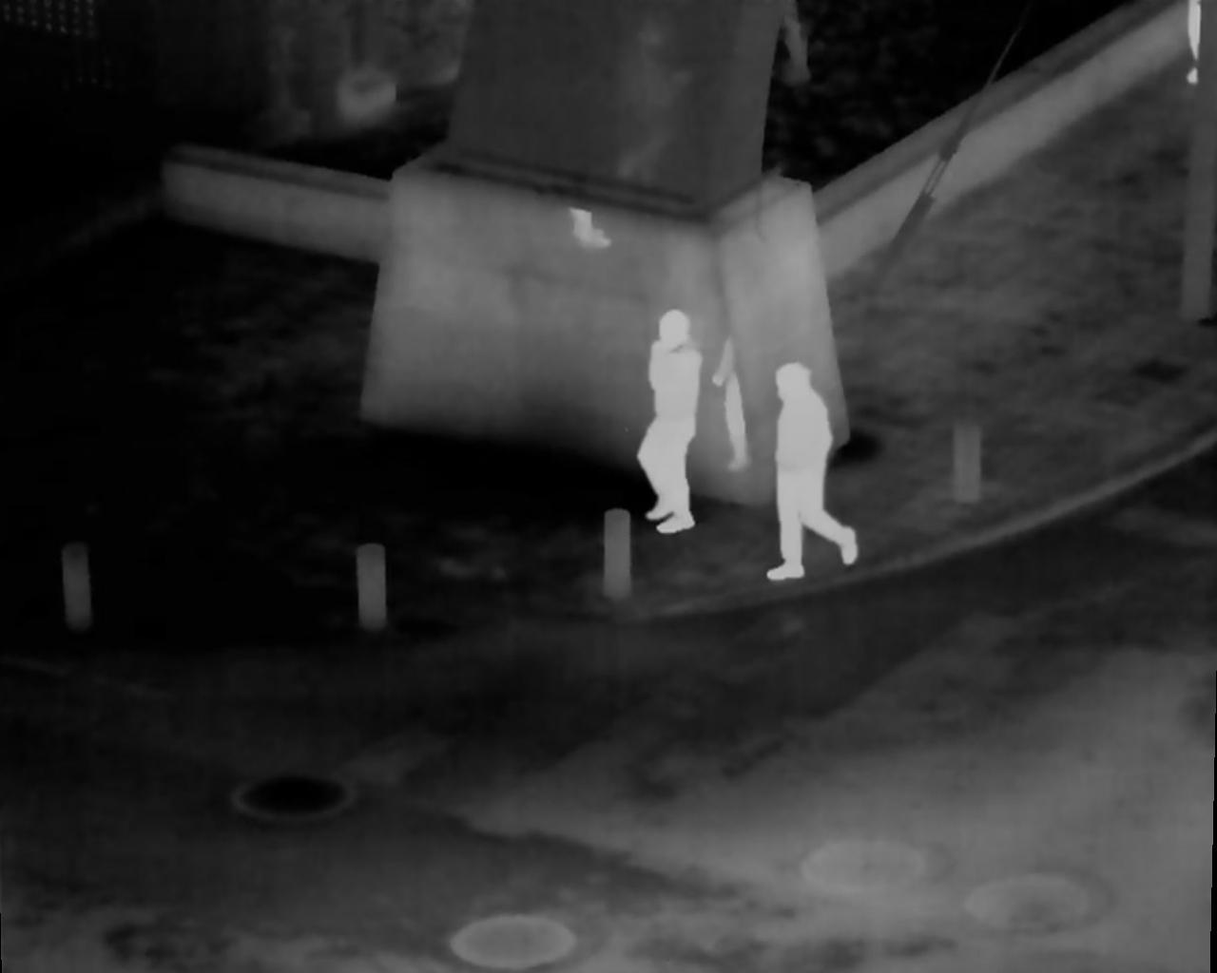person: (766, 360, 857, 581), (634, 298, 705, 541)
